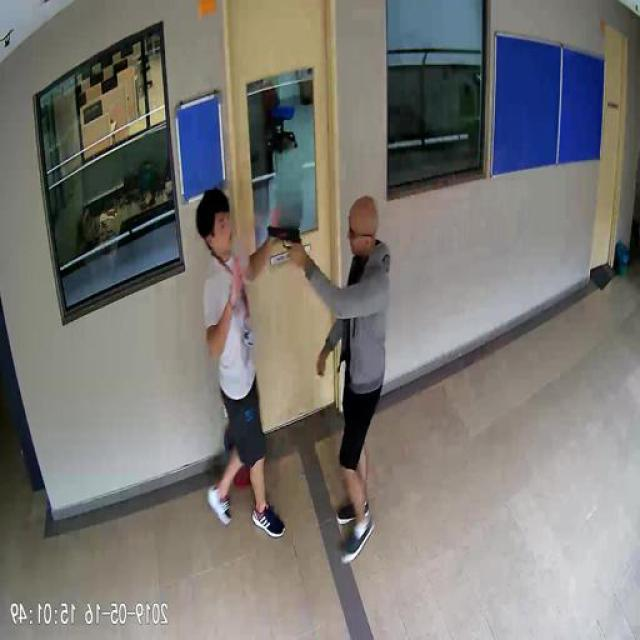Gun: (264, 222, 308, 268)
